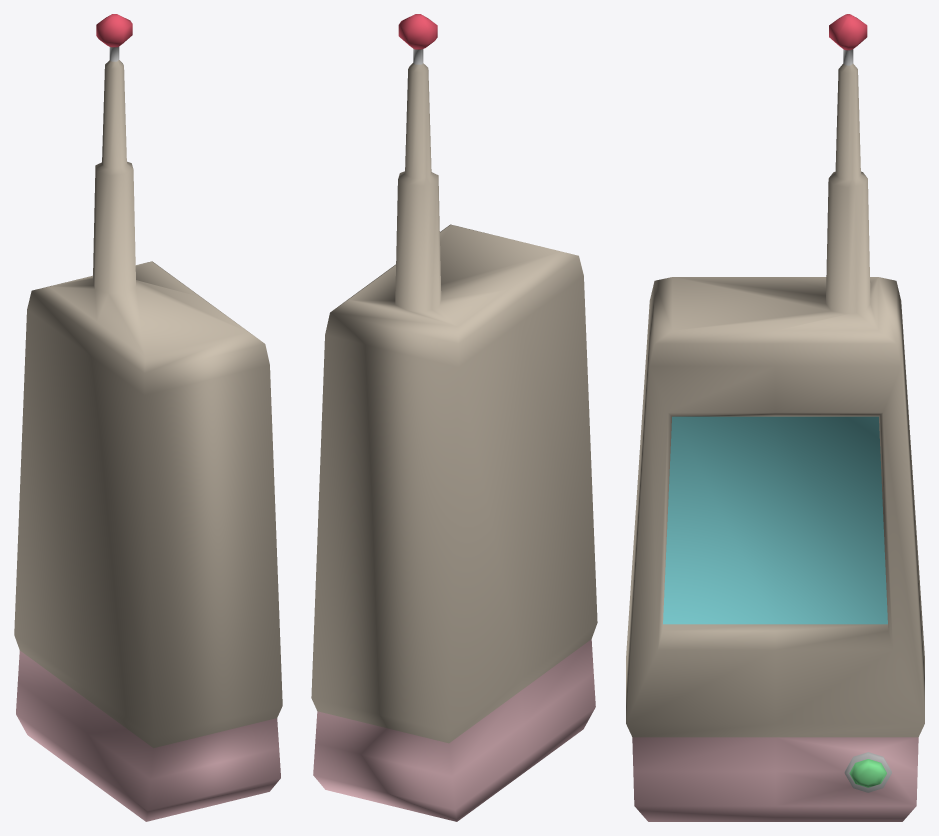
File: RemoteMesh.fbx
3 renders of one model, left to right at view 1: azimuth 30°, elevation 25°; view 2: azimuth 150°, elevation 25°; view 3: azimuth 270°, elevation 25°, orthographic. The views are drawn at different scales.
Parts seen in each view (by area): view 1: Cube; view 2: Cube; view 3: Cube.
Part boxes in pixels (x1,y1,x2,y2): Cube: [14, 14, 282, 821]; Cube: [311, 14, 597, 821]; Cube: [626, 14, 924, 821].
Bounding box in the file's own units: 115 × 556 × 195.
